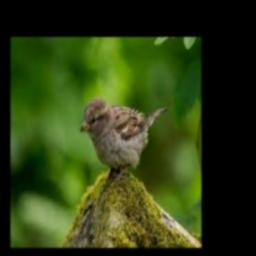Sparrow: (79, 95, 167, 180)
